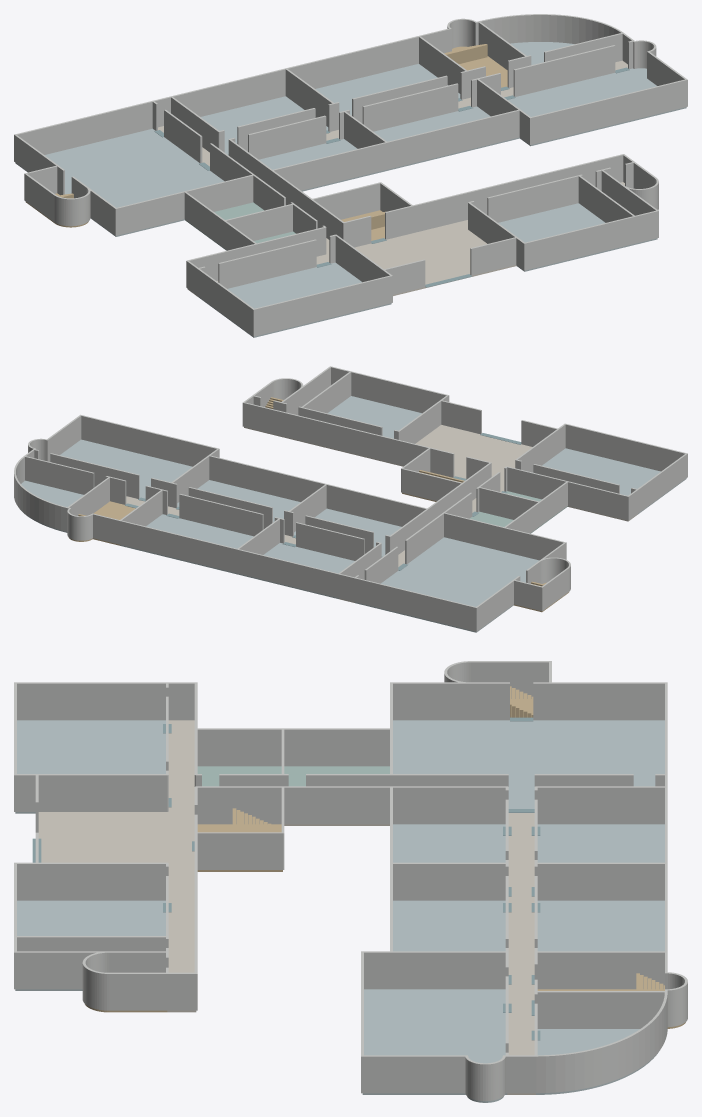
Rendered from mingde-1F.glb.
3 renders of one model, top to bottom at view 1: azimuth 30°, elevation 25°; view 2: azimuth 150°, elevation 25°; view 3: azimuth 270°, elevation 25°, orthographic. The views are drawn at different scales.
Visible parts, largest first — view 1: floor_0, floor_0_stairs-northeast_step9; view 2: floor_0; view 3: floor_0.
Part boxes in pixels (x1,y1,x2,y2): floor_0: (14,14,687,337); floor_0_stairs-northeast_step9: (445,44,487,63); floor_0: (14,366,687,632); floor_0: (14,661,687,1102).
Size of the model in its own units: 66 by 2.98 by 46.6.
